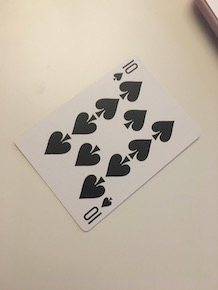TenOfSpades: (6, 53, 203, 234)
